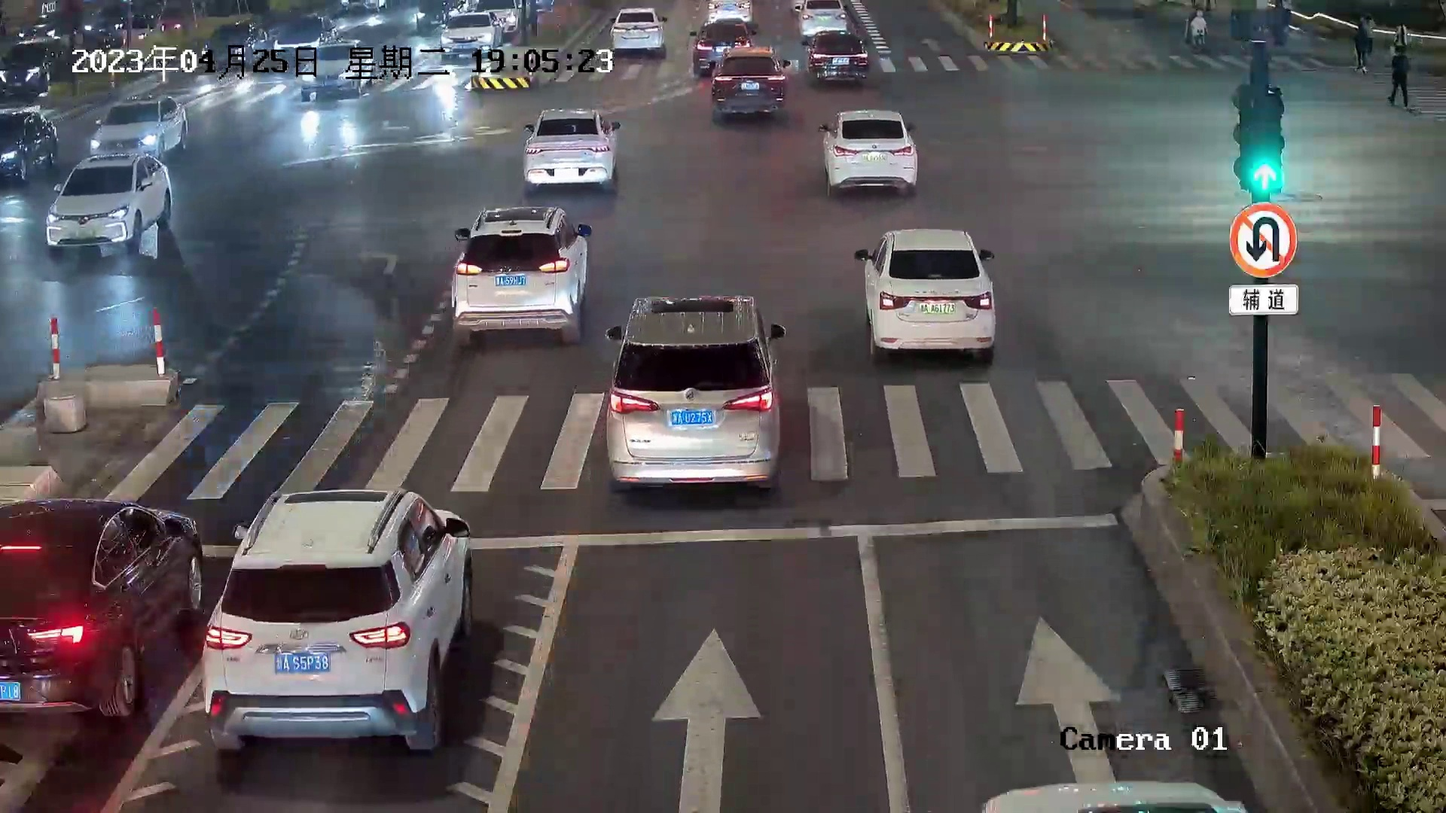person: (1387, 41, 1411, 108), (1187, 7, 1207, 48)
vehicle: (200, 486, 476, 759), (0, 494, 202, 722), (599, 291, 787, 489), (448, 204, 593, 344), (850, 224, 998, 359), (43, 148, 171, 253), (816, 103, 920, 196), (518, 103, 615, 188), (87, 97, 186, 157), (709, 45, 787, 120), (298, 38, 371, 102), (0, 106, 59, 180), (804, 29, 871, 85), (2, 39, 67, 96), (609, 0, 667, 53), (689, 23, 754, 66), (436, 14, 497, 59)
